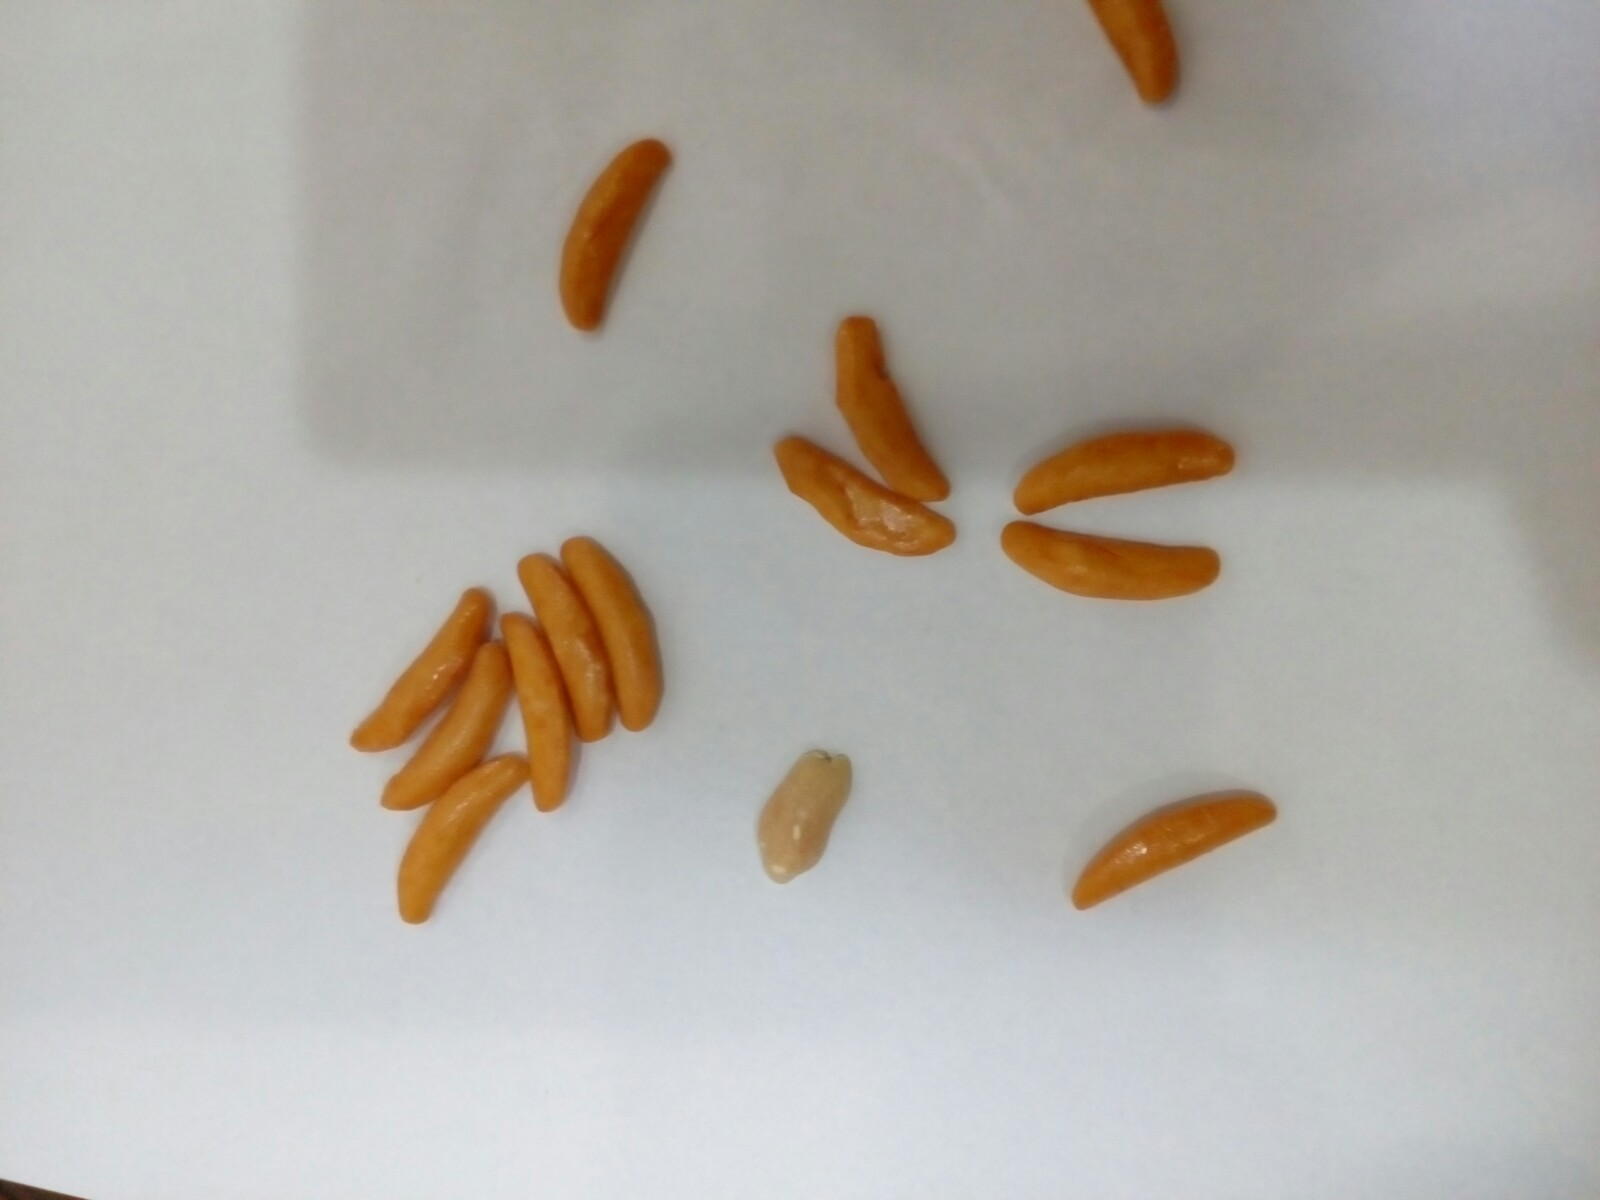peanut: (751, 747, 862, 887)
